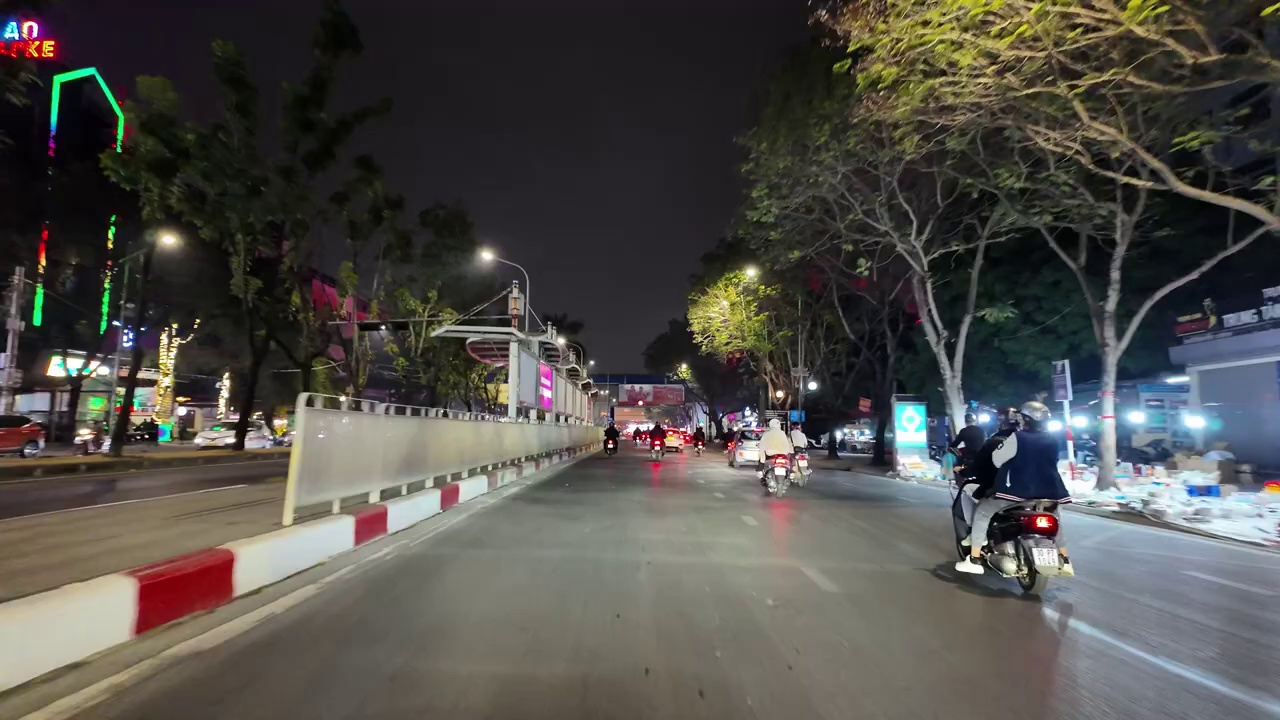acesa: (155, 230, 184, 254), (474, 244, 500, 269)
